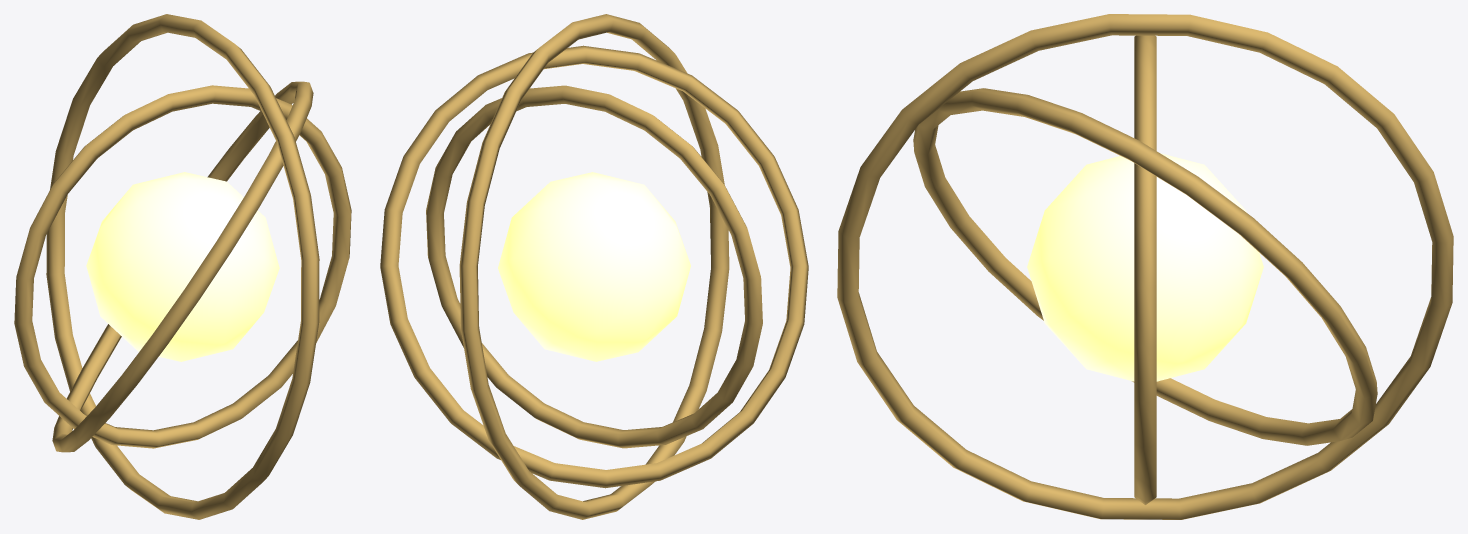
The model's file is opt.glb.
The picture shows the model from 3 angles, left to right: view 1: azimuth 30°, elevation 25°; view 2: azimuth 150°, elevation 25°; view 3: azimuth 270°, elevation 25°; orthographic projection. The views are drawn at different scales.
Visible parts, largest first — view 1: body; view 2: body; view 3: body.
Boxes of the visible parts, x1,y1,x2,y2 form: body: (14,14,351,519); body: (380,14,808,519); body: (837,14,1453,519).
Size of the model in its own units: 1.01 by 1.28 by 1.3.
